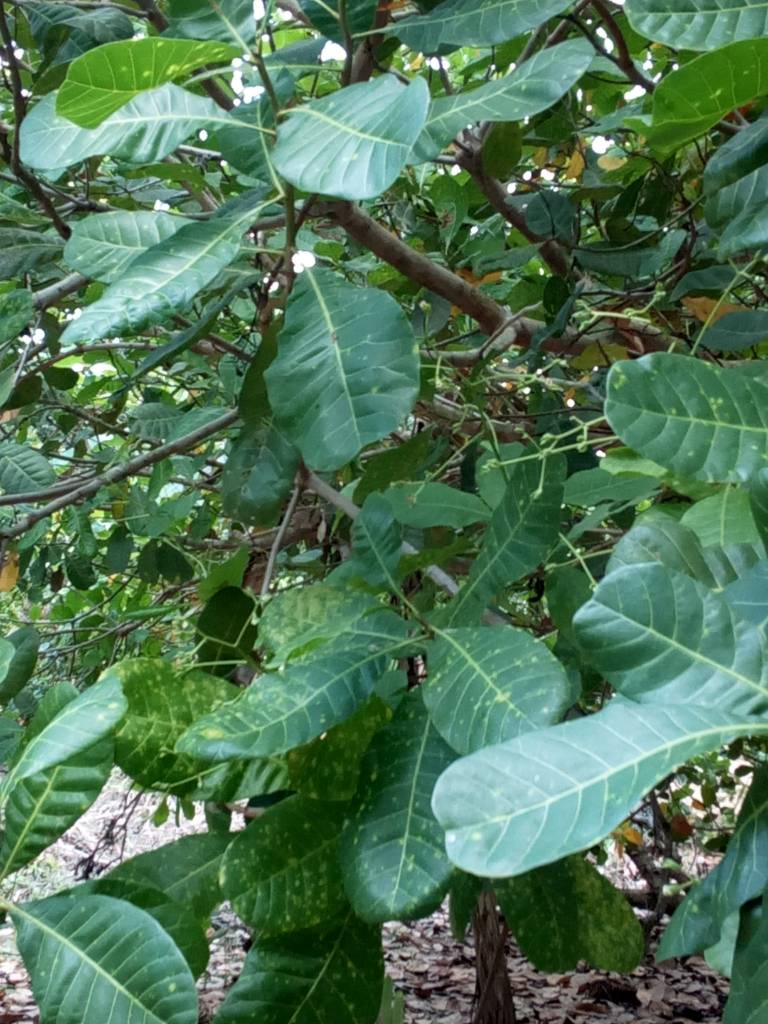Alternariose: (174, 635, 418, 775), (219, 791, 355, 938), (424, 628, 568, 753), (107, 657, 224, 788), (563, 858, 643, 980)
